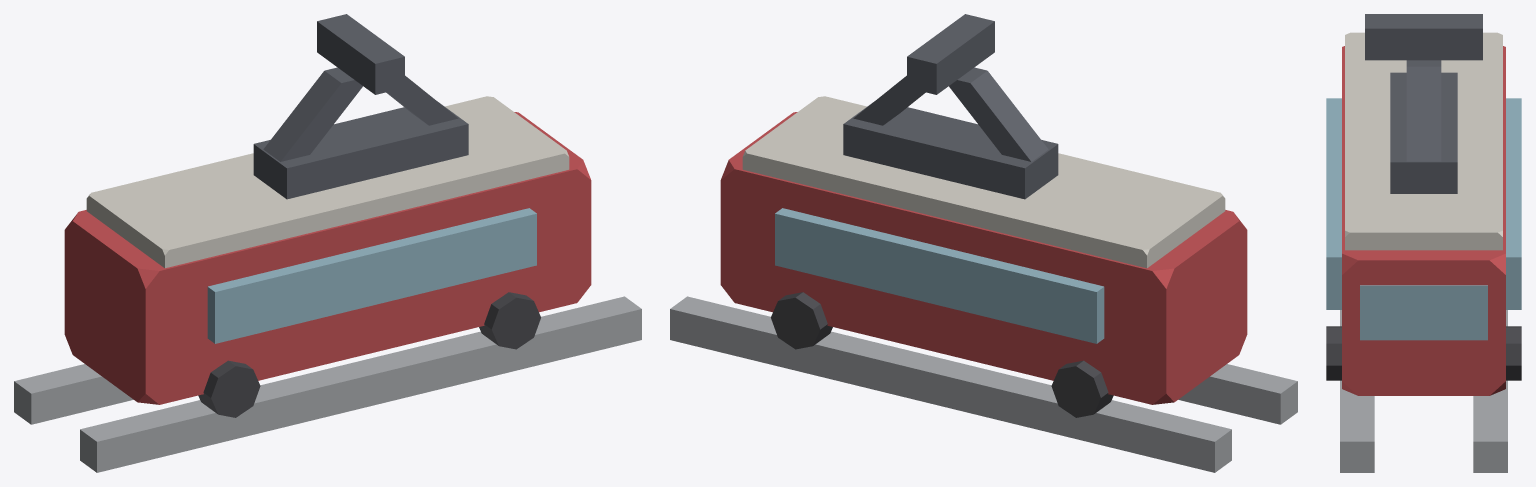
3 renders of one model, left to right at view 1: azimuth 30°, elevation 25°; view 2: azimuth 150°, elevation 25°; view 3: azimuth 270°, elevation 25°, orthographic.
Parts seen in each view (by area): view 1: part0, part4, part14, part2, part5, part13, part8, part7, part12, part10, part6; view 2: part0, part4, part13, part1, part5, part14, part8, part7, part11, part9, part6; view 3: part4, part0, part3, part8, part5, part6, part1, part2, part13, part14, part9, part10.
Boxes of the visible parts, <box> form: part0: <box>64,112,591,404</box>; part4: <box>86,96,569,268</box>; part14: <box>80,296,641,472</box>; part2: <box>207,208,536,343</box>; part5: <box>253,102,468,199</box>; part13: <box>14,364,133,424</box>; part8: <box>317,14,404,94</box>; part7: <box>263,67,362,161</box>; part12: <box>198,360,260,417</box>; part10: <box>479,292,540,349</box>; part6: <box>386,75,458,125</box>; part0: <box>720,112,1247,404</box>; part4: <box>742,96,1225,268</box>; part13: <box>670,296,1231,472</box>; part1: <box>775,208,1104,343</box>; part5: <box>843,102,1058,199</box>; part14: <box>1178,364,1297,424</box>; part8: <box>907,14,994,94</box>; part7: <box>949,67,1048,161</box>; part11: <box>1051,360,1113,417</box>; part9: <box>771,292,832,349</box>; part6: <box>853,75,925,125</box>; part4: <box>1345,32,1502,250</box>; part0: <box>1342,46,1505,395</box>; part3: <box>1360,285,1487,340</box>; part8: <box>1365,14,1482,60</box>; part5: <box>1390,72,1457,193</box>; part6: <box>1406,60,1441,161</box>; part1: <box>1506,98,1521,309</box>; part2: <box>1326,98,1341,309</box>; part13: <box>1473,310,1507,472</box>; part14: <box>1340,310,1374,472</box>; part9: <box>1506,326,1521,380</box>; part10: <box>1326,326,1341,380</box>.
Bounding box in the file's own units: 6.6 × 3.81 × 2.02.
